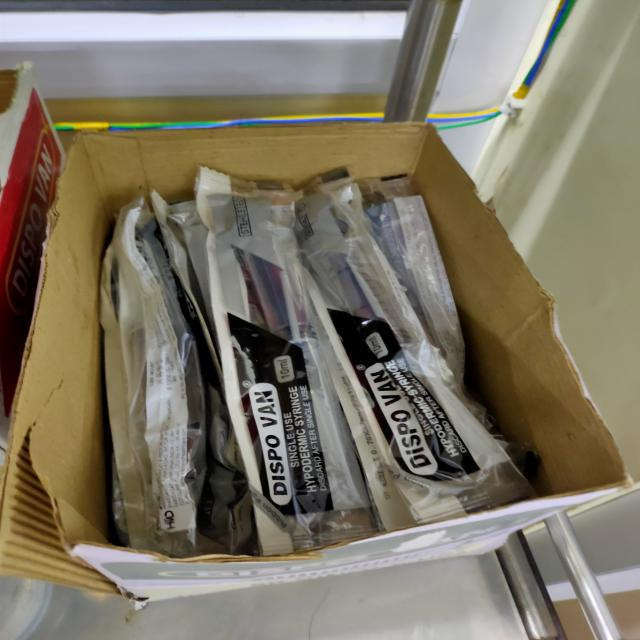B3: (102, 166, 534, 548)
